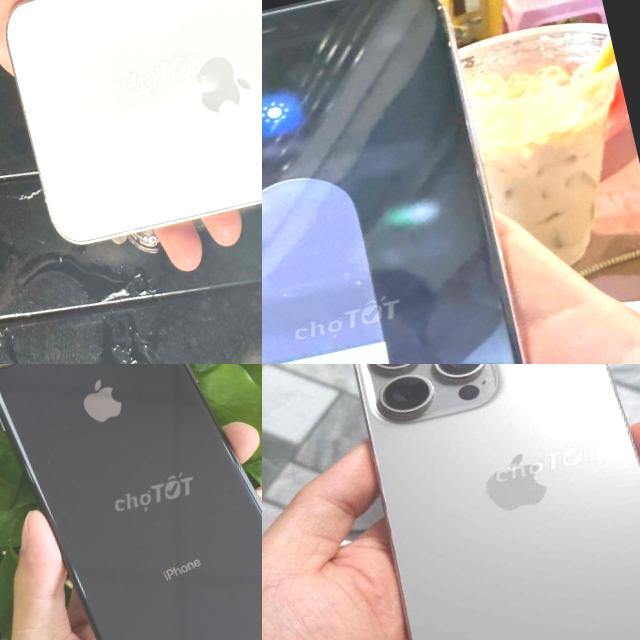gen_11: (262, 0, 586, 364)
gen_12_13: (0, 0, 262, 261)
gen_15: (318, 364, 640, 640)
gen_7_8: (0, 364, 262, 640)
scratch: (220, 479, 262, 526), (46, 391, 70, 432), (32, 486, 62, 514), (40, 448, 57, 464)
